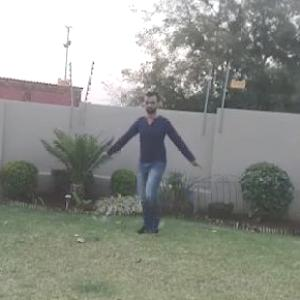land: (102, 96, 203, 229)
